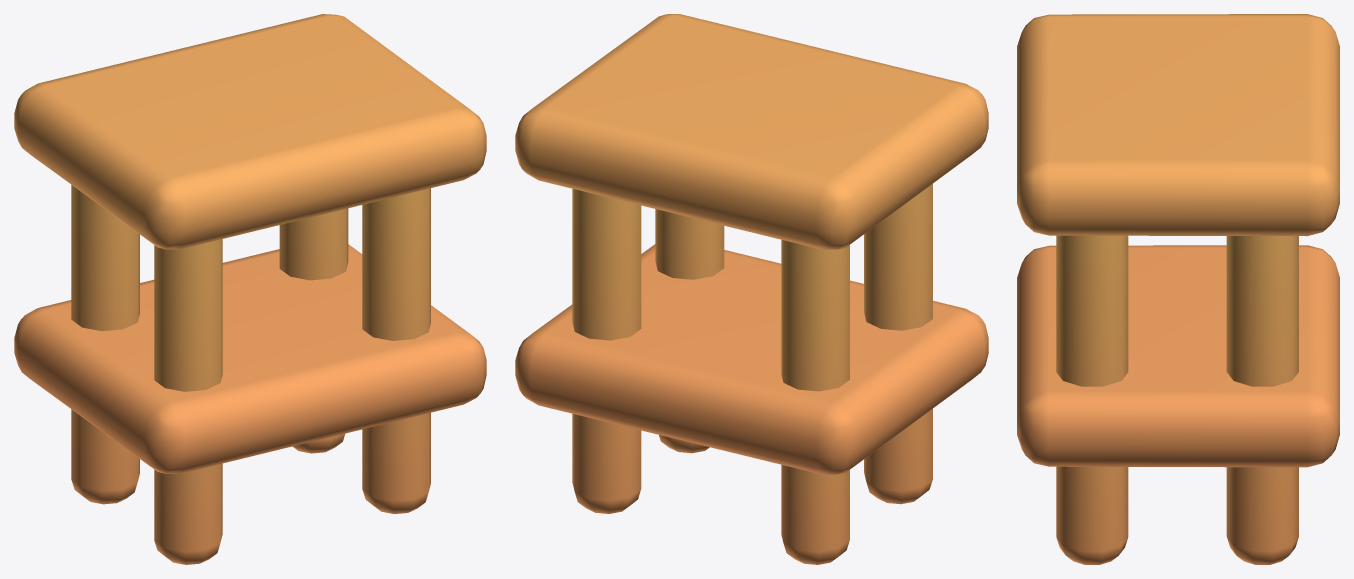
Rendered from Nightstand_08.glb.
3 renders of one model, left to right at view 1: azimuth 30°, elevation 25°; view 2: azimuth 150°, elevation 25°; view 3: azimuth 270°, elevation 25°, orthographic. The views are drawn at different scales.
Parts seen in each view (by area): view 1: Nightstand_08; view 2: Nightstand_08; view 3: Nightstand_08.
Boxes of the visible parts, box(x1,y1,x2,y2) form: Nightstand_08: box(14, 14, 486, 564); Nightstand_08: box(515, 14, 988, 564); Nightstand_08: box(1017, 14, 1339, 564).
Bounding box in the file's own units: 0.5 × 0.5712 × 0.4.
1 material, 1 textured.
